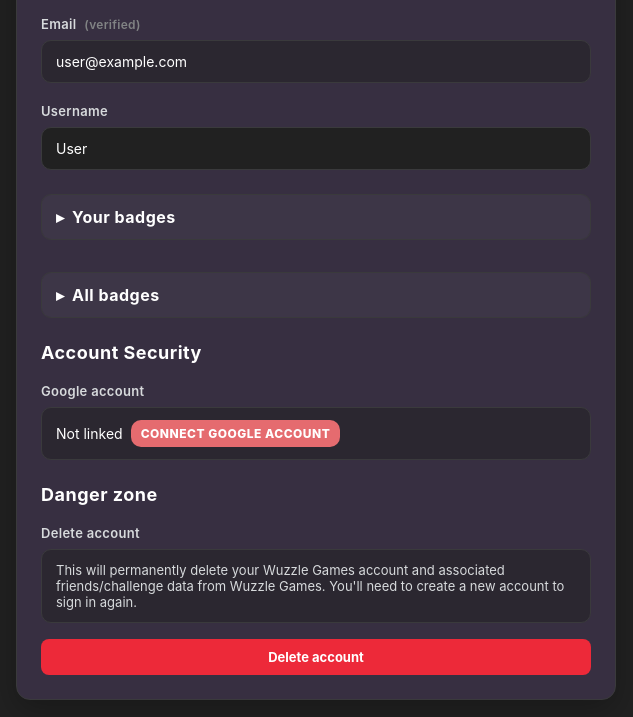
Test: Profile › shows Google link button when no google provider and handles friendly already-linked error
The width and height of the screenshot is (633, 717).
(page scrolled)
Click the button "Connect Google account": (236, 434) [131, 420, 340, 447]
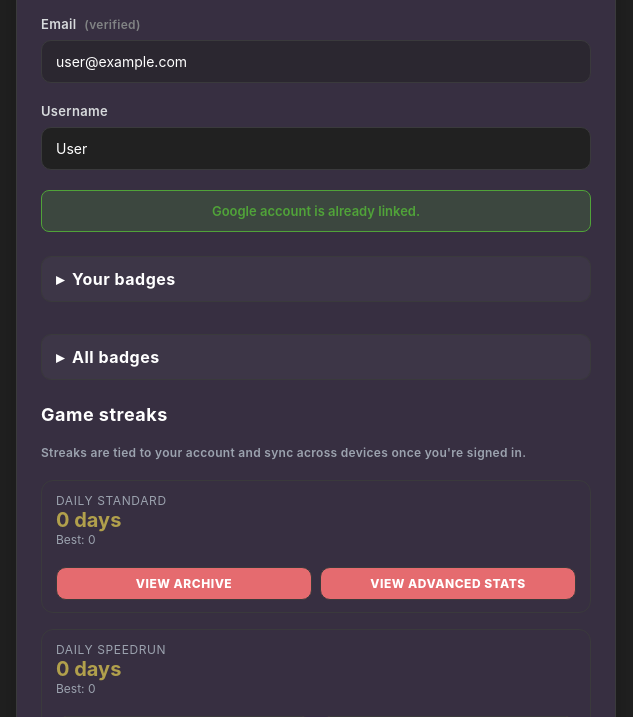
Now the text "Google account is already linked." is shown, box [41, 190, 591, 232]
